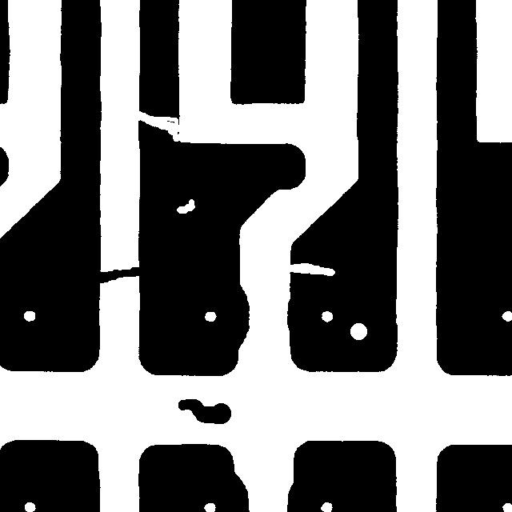copper: (170, 391, 238, 431)
mousebite: (279, 255, 342, 283)
open: (126, 103, 194, 149)
pin-hole: (342, 315, 374, 347), (169, 191, 202, 221)
short: (86, 259, 151, 290)
